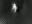person: (12, 4, 19, 14)
